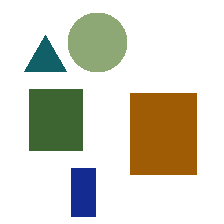circle: (68, 13, 126, 71)
rectangle: (130, 93, 196, 174), (29, 89, 82, 150), (71, 168, 95, 216)
triangle: (24, 35, 66, 71)
